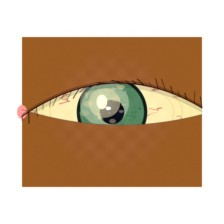corneal_ulcer: (79, 82, 130, 123)
